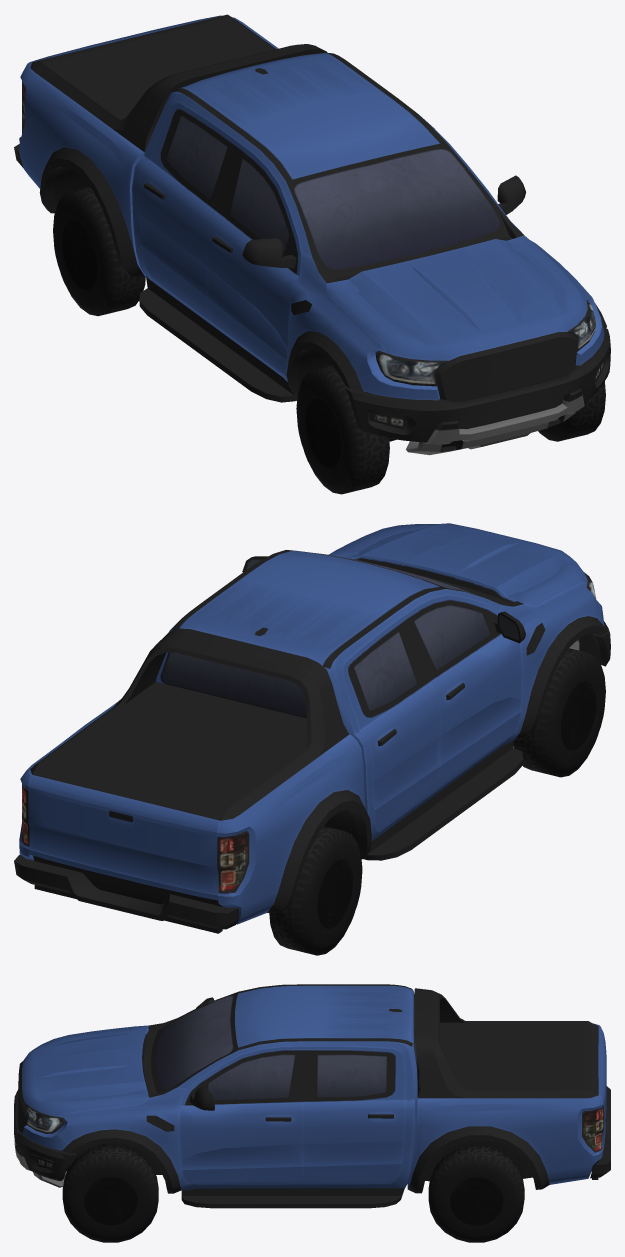
The model's file is Jeep.fbx.
3 renders of one model, top to bottom at view 1: azimuth 30°, elevation 25°; view 2: azimuth 150°, elevation 25°; view 3: azimuth 270°, elevation 25°, orthographic. The views are drawn at different scales.
Parts seen in each view (by area): view 1: Jeep, Wheel_1_R, Wheel_2, Wheel_1_L; view 2: Jeep, Wheel_2, Wheel_1_R; view 3: Jeep, Wheel_1_L, Wheel_2.001.
Part boxes in pixels (bbox=[...]): Jeep: bbox=[14, 14, 610, 455]; Wheel_1_R: bbox=[296, 365, 389, 494]; Wheel_2: bbox=[53, 187, 145, 316]; Wheel_1_L: bbox=[538, 381, 605, 441]; Jeep: bbox=[14, 523, 610, 933]; Wheel_2: bbox=[269, 826, 362, 955]; Wheel_1_R: bbox=[513, 648, 605, 777]; Jeep: bbox=[14, 984, 610, 1208]; Wheel_1_L: bbox=[62, 1145, 158, 1242]; Wheel_2.001: bbox=[428, 1145, 524, 1242].
Bounding box in the file's own units: 2.12 × 1.82 × 5.23.
Materials: 1 (1 with a texture image).
